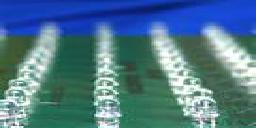LED: (91, 22, 126, 128), (192, 94, 219, 125)
